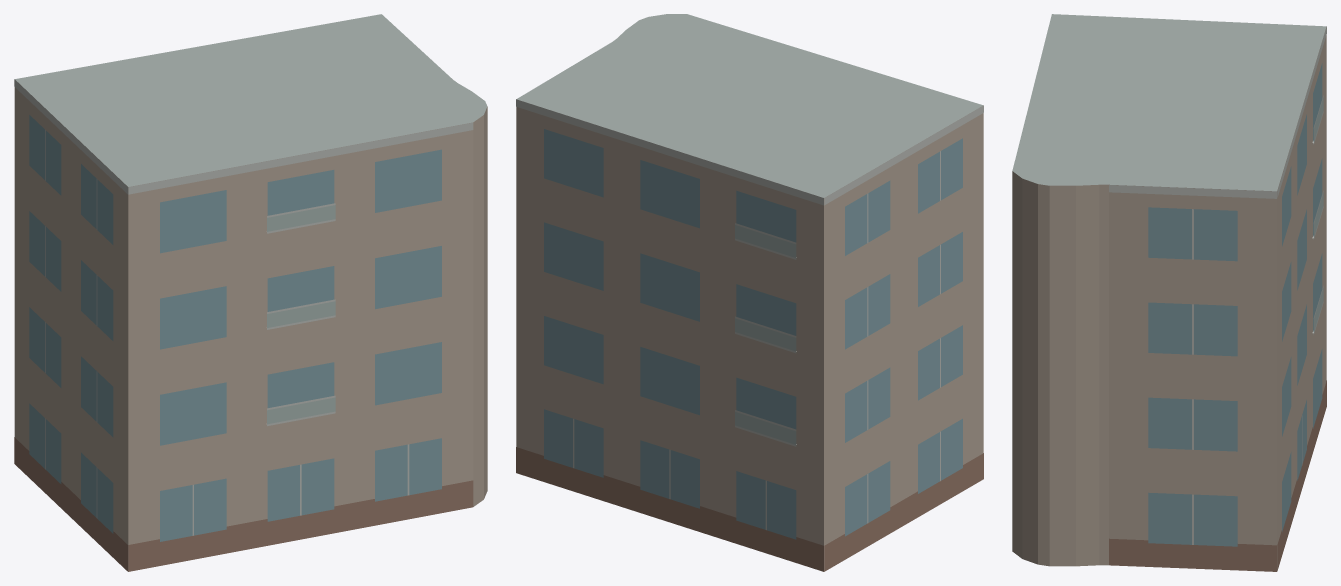
Rendered from survey-upis-32635643.glb.
The picture shows the model from 3 angles, left to right: view 1: azimuth 30°, elevation 25°; view 2: azimuth 150°, elevation 25°; view 3: azimuth 270°, elevation 25°; orthographic projection. The views are drawn at different scales.
Visible parts, largest first — view 1: survey-upis-32635643.tmp; view 2: survey-upis-32635643.tmp; view 3: survey-upis-32635643.tmp.
Part boxes in pixels (x1,y1,x2,y2): survey-upis-32635643.tmp: (14,14,487,571); survey-upis-32635643.tmp: (516,14,983,571); survey-upis-32635643.tmp: (1012,14,1326,571).
Bounding box in the file's own units: 12.2 × 12.2 × 9.14.
